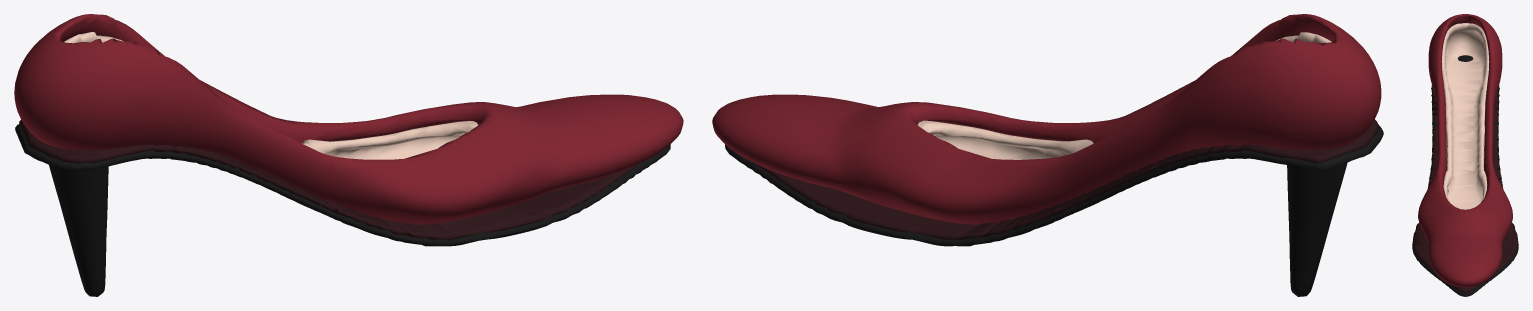
The model's file is topuklu.glb.
3 views of the same model, side by side, from view 1: azimuth 30°, elevation 25°; view 2: azimuth 150°, elevation 25°; view 3: azimuth 270°, elevation 25° (orthographic). The views are drawn at different scales.
Parts seen in each view (by area): view 1: upper, midsole, outsole, heel, lining; view 2: upper, midsole, outsole, heel, lining; view 3: upper, lining, midsole, outsole, heel.
Part boxes in pixels (left/top/right/bottom): upper: left=14, top=14, right=683, bottom=224; midsole: left=19, top=120, right=643, bottom=239; outsole: left=15, top=124, right=670, bottom=246; heel: left=49, top=165, right=108, bottom=296; lining: left=64, top=32, right=477, bottom=159; upper: left=712, top=14, right=1381, bottom=224; midsole: left=752, top=119, right=1379, bottom=239; outsole: left=725, top=124, right=1383, bottom=246; heel: left=1287, top=162, right=1347, bottom=296; lining: left=918, top=32, right=1331, bottom=159; upper: left=1418, top=14, right=1512, bottom=287; lining: left=1441, top=23, right=1489, bottom=209; midsole: left=1413, top=85, right=1517, bottom=292; outsole: left=1412, top=87, right=1518, bottom=296; heel: left=1458, top=55, right=1473, bottom=61.
Bounding box in the file's own units: 0.3086 × 0.1207 × 0.0845.
